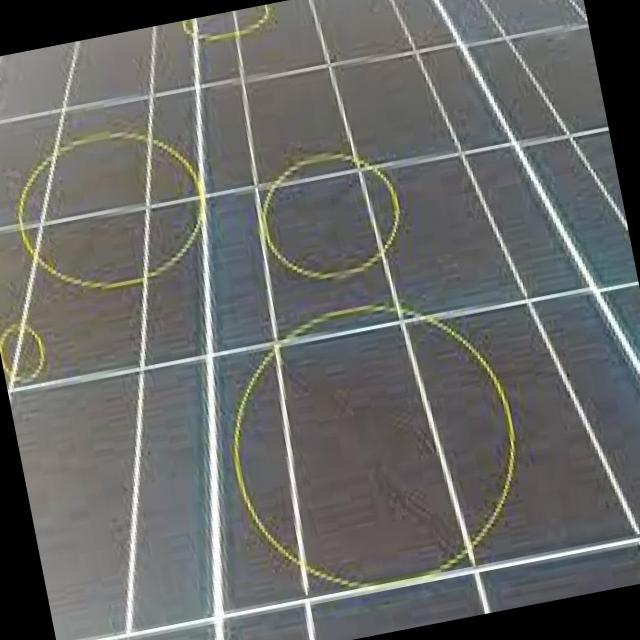faulty: (238, 275, 640, 602), (223, 52, 494, 322), (0, 187, 205, 391), (0, 70, 215, 232), (194, 0, 336, 78)
